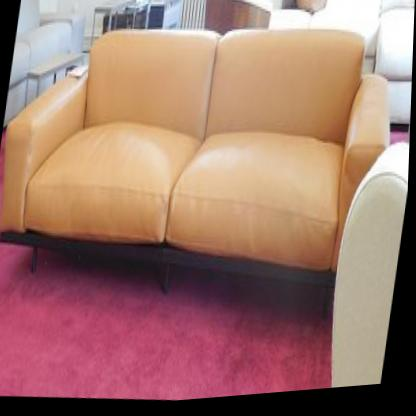Carpet: (0, 243, 335, 403)
Sofa: (0, 0, 411, 357)
